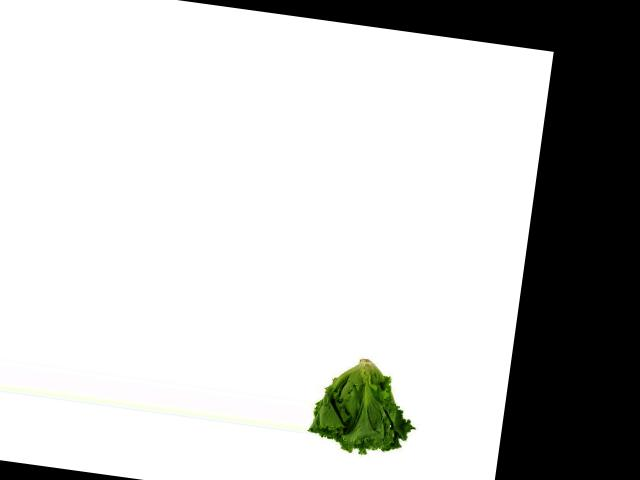lettuce: (304, 349, 419, 464)
